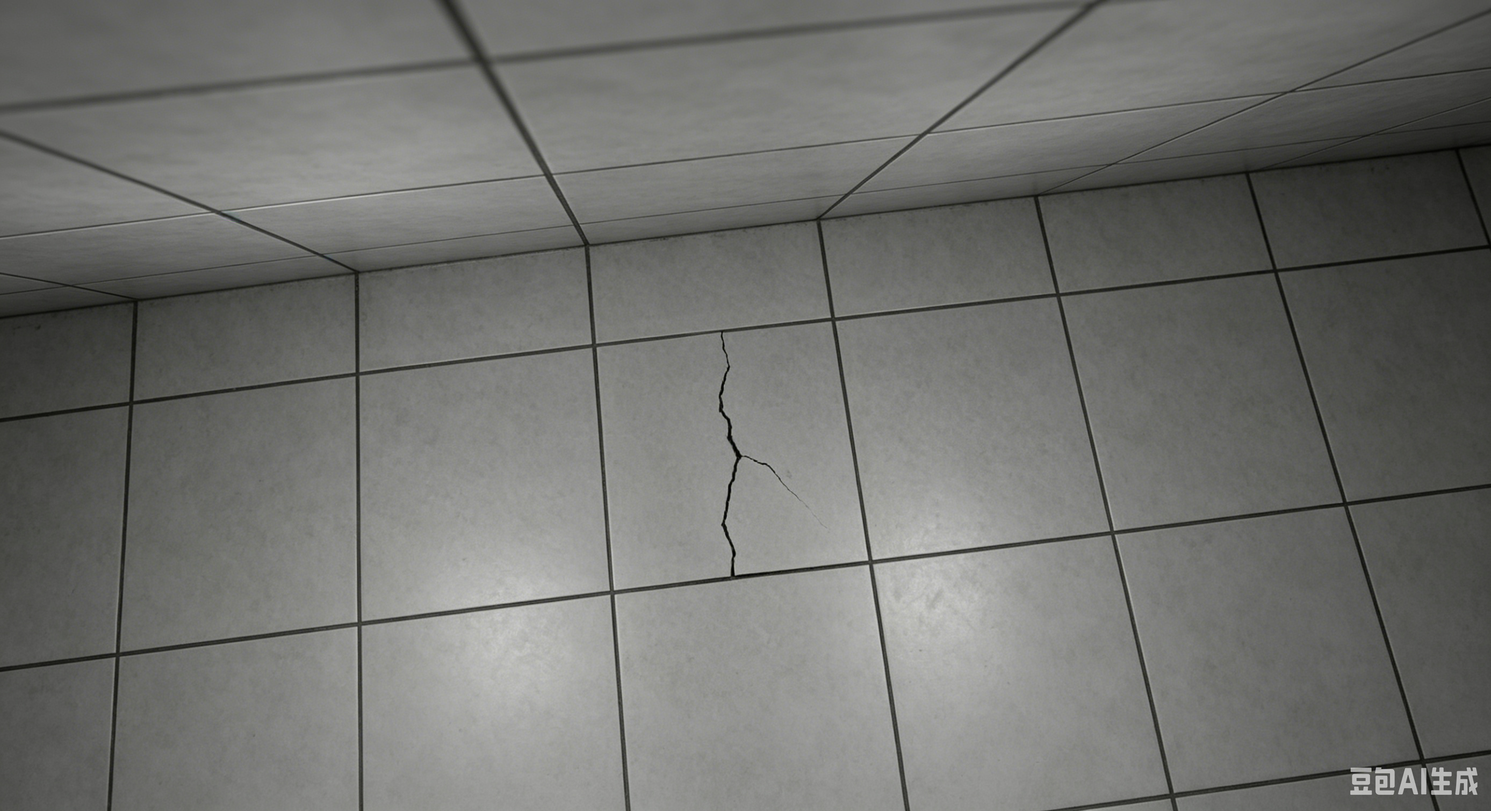floor_defect: (692, 326, 810, 582)
